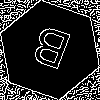B: (25, 25, 74, 79)
